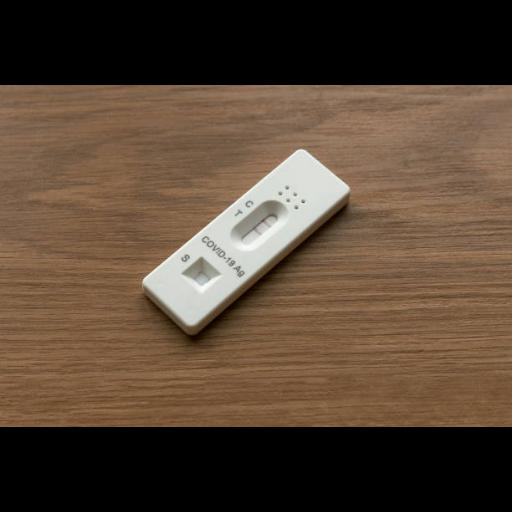Pos: (142, 146, 351, 325)
